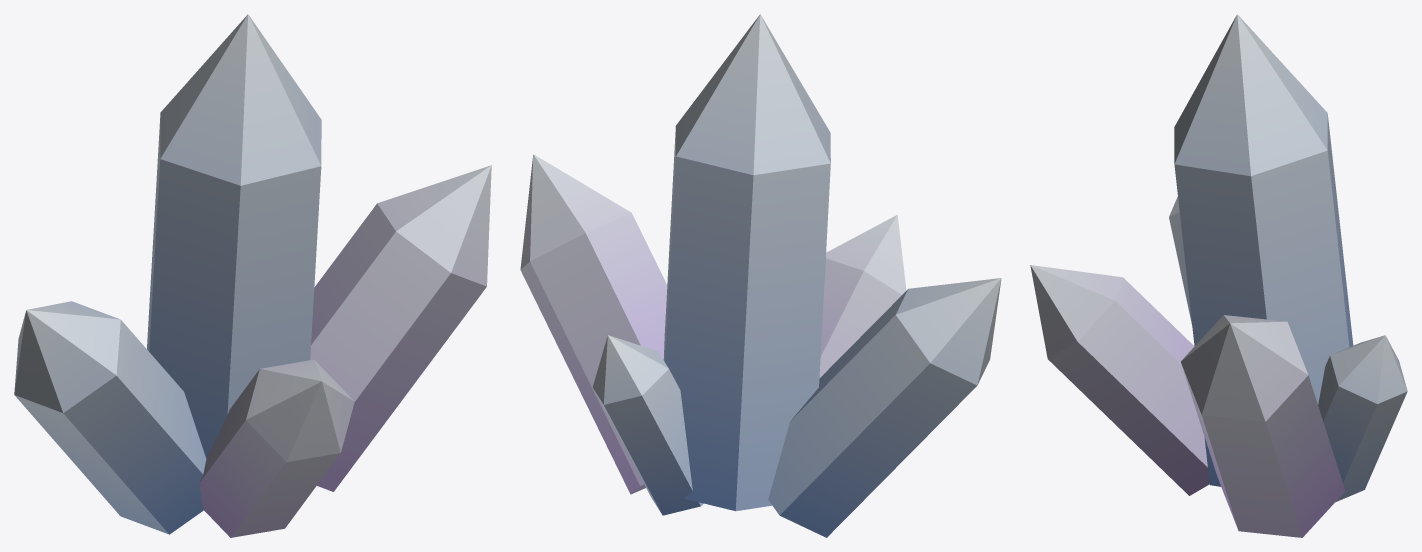
Rendered from slime_acc_crystal.fbx.
3 renders of one model, left to right at view 1: azimuth 30°, elevation 25°; view 2: azimuth 150°, elevation 25°; view 3: azimuth 270°, elevation 25°, orthographic. The views are drawn at different scales.
Visible parts, largest first — view 1: slime_acc_crystal; view 2: slime_acc_crystal; view 3: slime_acc_crystal.
Part boxes in pixels (x1,y1,x2,y2): slime_acc_crystal: (14,14,491,537); slime_acc_crystal: (520,14,1001,537); slime_acc_crystal: (1030,14,1407,537).
Size of the model in its own units: 1.59 by 1.6 by 1.15.
